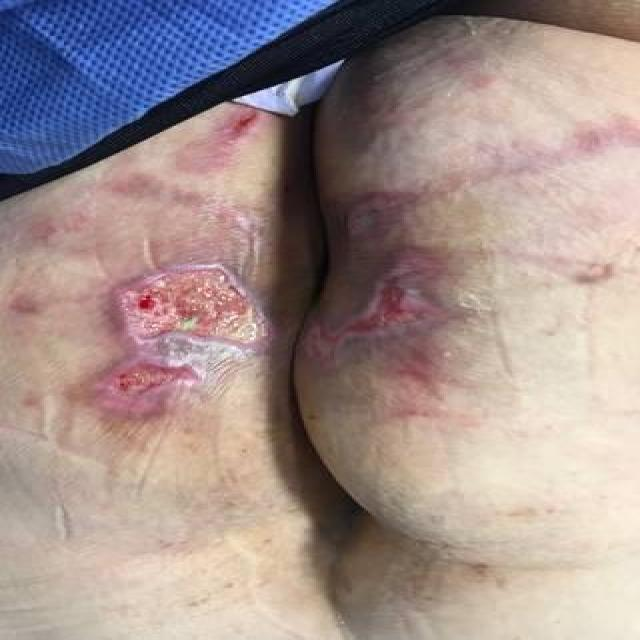stage-2: (297, 271, 418, 363), (107, 364, 201, 395)
stage-3: (124, 265, 257, 340)
